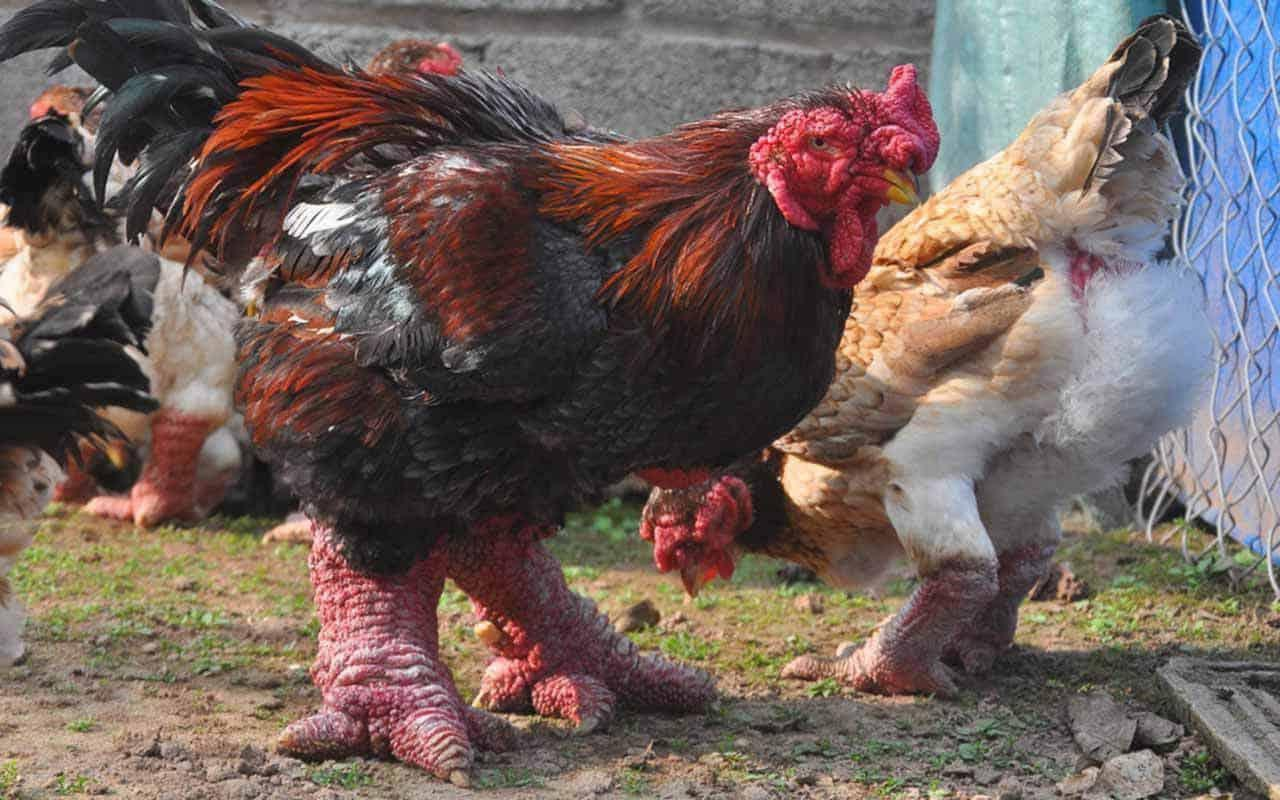AbNormal: (5, 5, 938, 779), (650, 380, 1109, 702)
